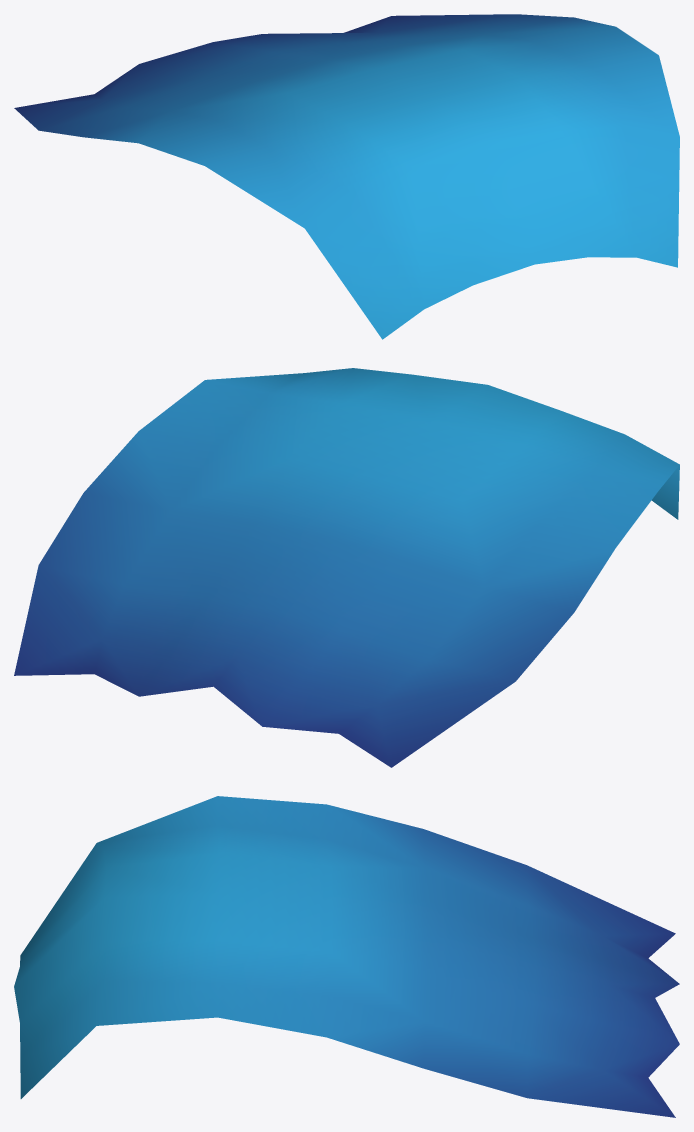
Rendered from cape_01.glb.
The picture shows the model from 3 angles, top to bottom: view 1: azimuth 30°, elevation 25°; view 2: azimuth 150°, elevation 25°; view 3: azimuth 270°, elevation 25°; orthographic projection.
Parts seen in each view (by area): view 1: Armor_Cape; view 2: Armor_Cape; view 3: Armor_Cape.
Part boxes in pixels (<box>): Armor_Cape: <box>14,14,679,339</box>; Armor_Cape: <box>14,368,679,767</box>; Armor_Cape: <box>14,796,679,1117</box>.
Size of the model in its own units: 0.9708 by 0.2514 by 1.14.
1 material, 1 textured.
